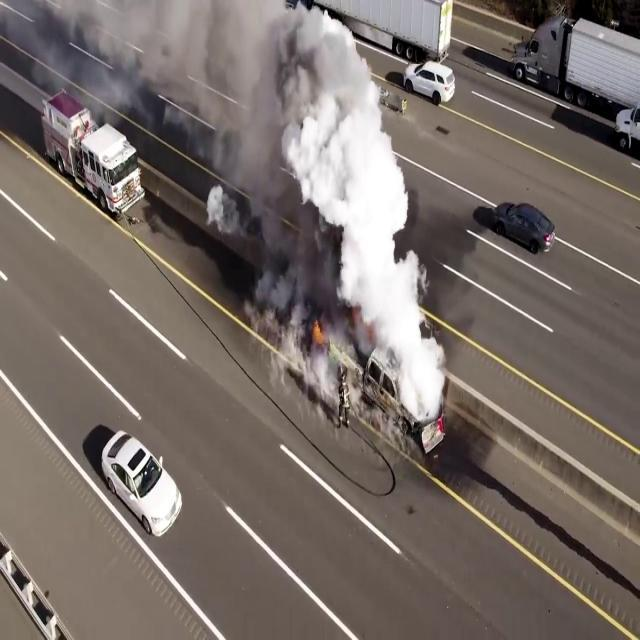Smoke: (214, 4, 446, 422)
